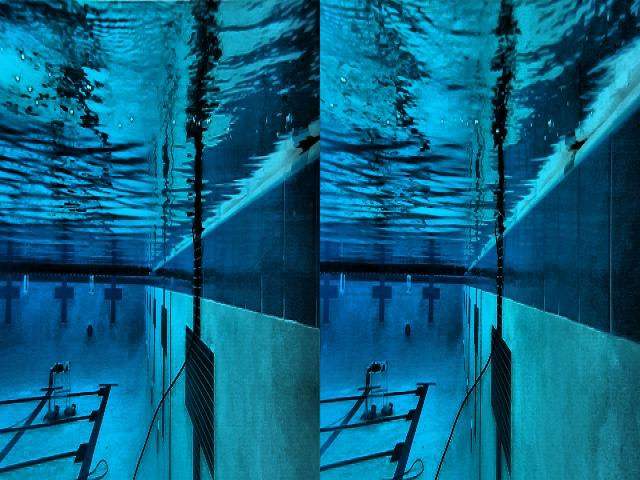octagon_table: (362, 353, 398, 428), (41, 357, 77, 425)
